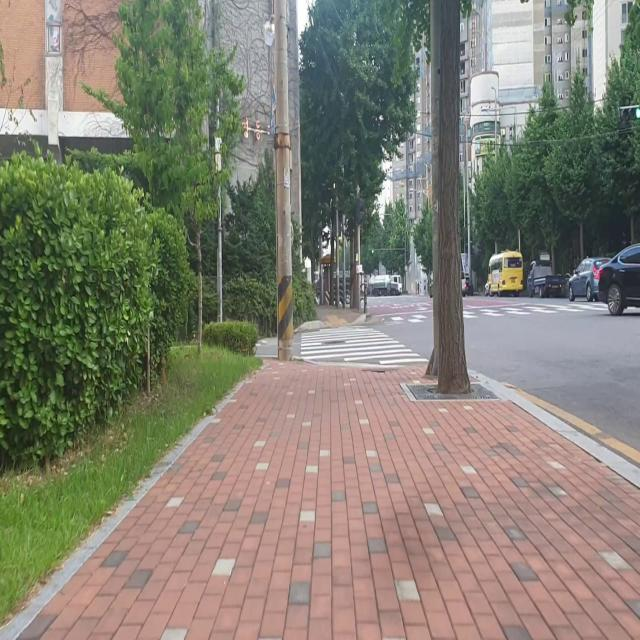횡단보도: (300, 325, 430, 366), (380, 299, 610, 322)
